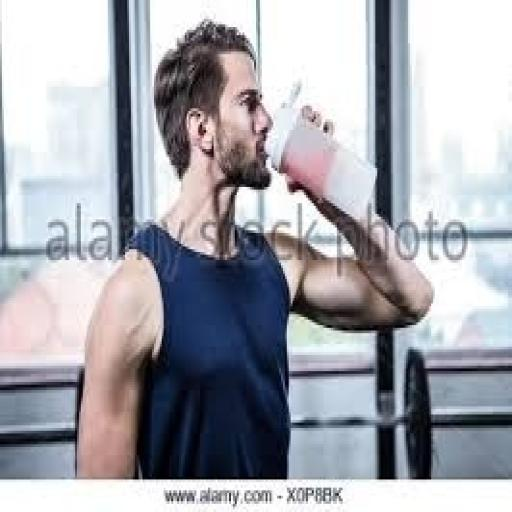drinking: (120, 38, 492, 328)
